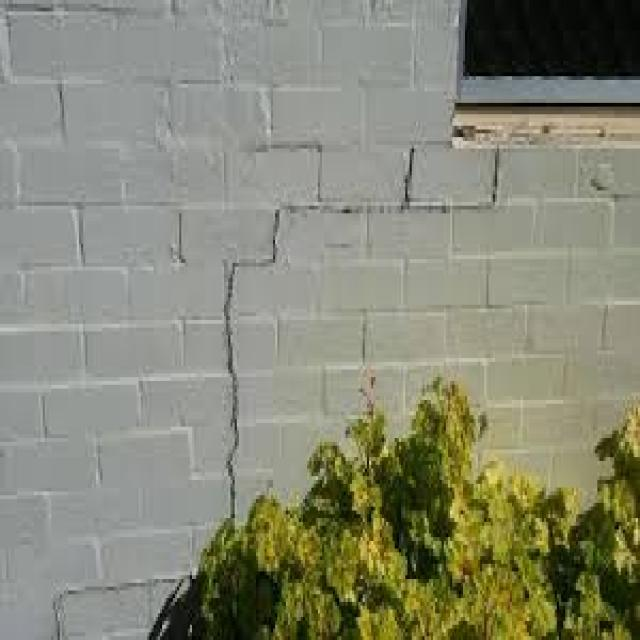Crack: (220, 141, 499, 529), (51, 568, 186, 636)
